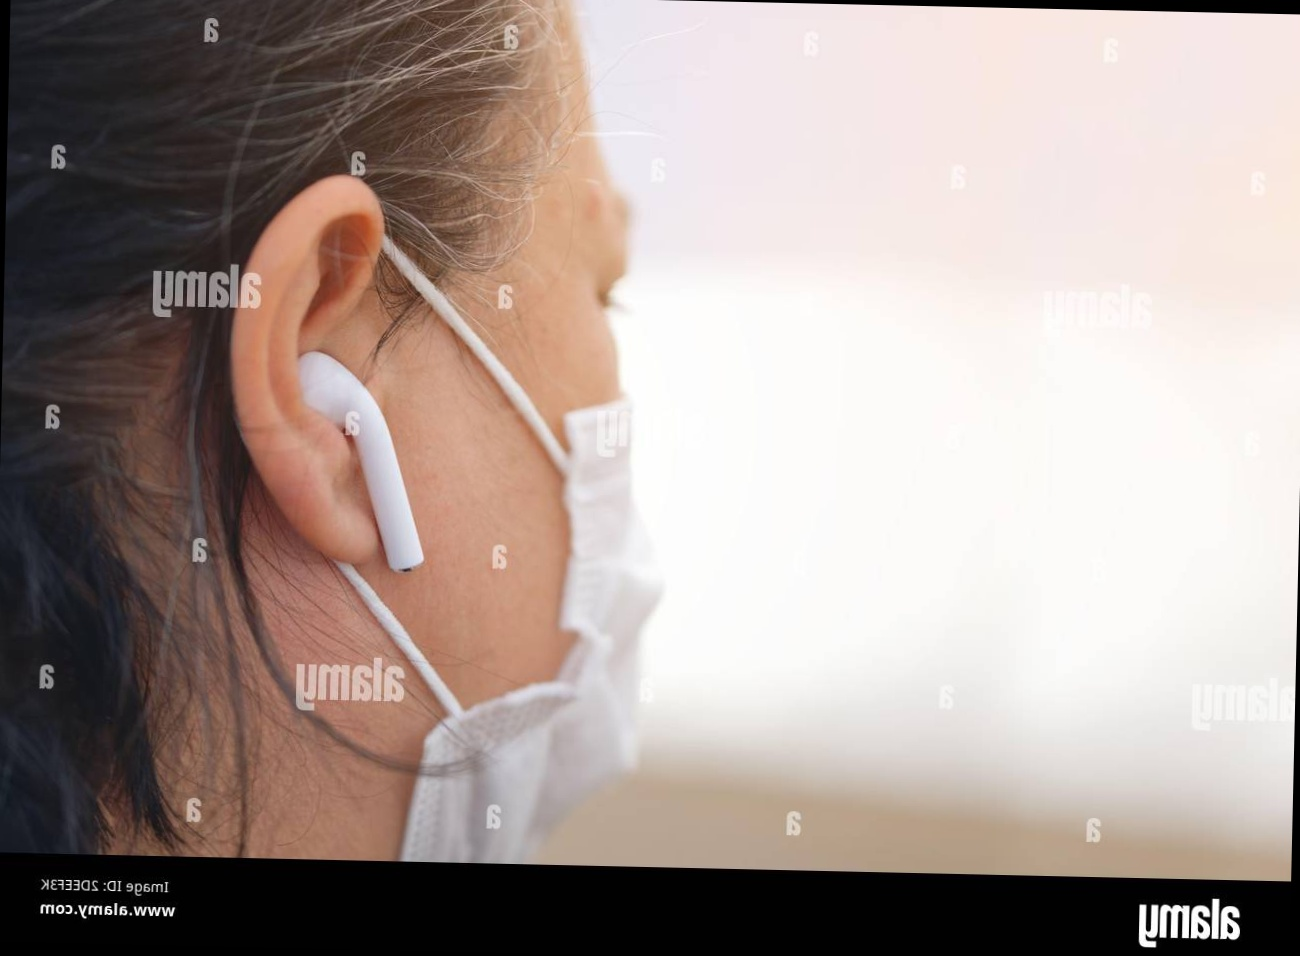earphone: (225, 173, 433, 576)
